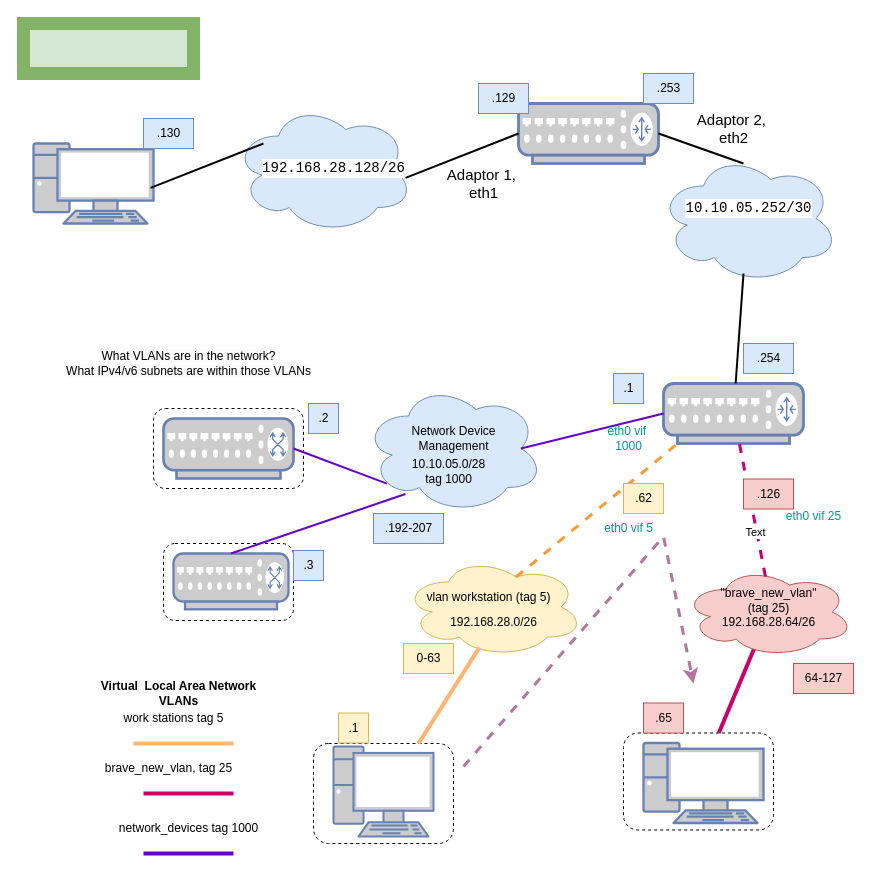
Image size: 871x874. Some labels were removed from this diagram. The shapes that lost their labels are listed below. From the top down, each one's centre as x and y in pixels, then its label:
point (108, 48): E05 LogicalTopology Drawing
point (588, 133): ROUTER 2 (vyos)
point (93, 183): Lubuntu 3
point (733, 413): ROUTER (vyos)
point (228, 448): switch 1
point (230, 581): switch 2
point (383, 791): Lubuntu 1
point (703, 783): Lubuntu 2
